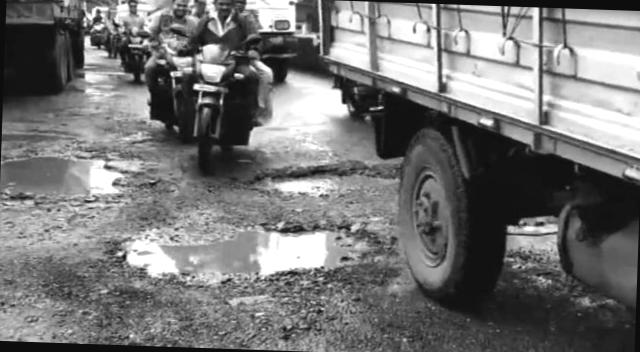Pothole: (130, 199, 414, 314), (0, 135, 153, 221), (232, 145, 438, 208)
